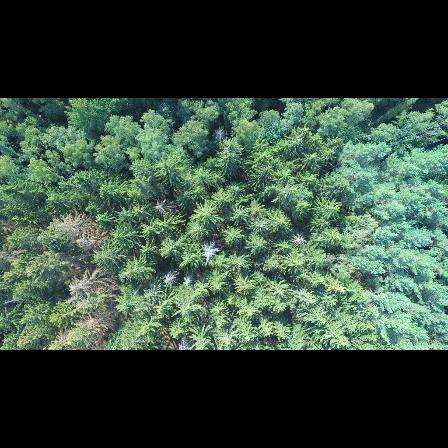Dead: (50, 211, 107, 251), (67, 268, 115, 297), (199, 240, 221, 266), (162, 268, 180, 286), (150, 200, 172, 214), (181, 272, 197, 287), (290, 233, 308, 246)
